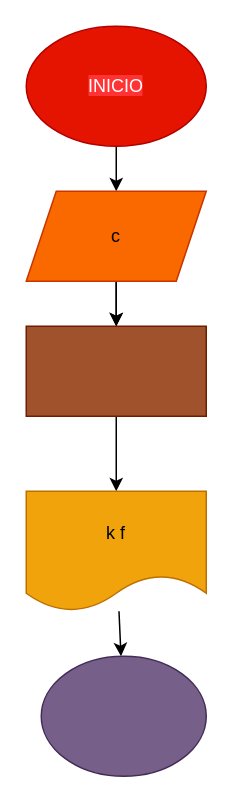
Image size: 233x803. Some labels were removed from this diagram. Each missing label, with the box of its shape:
FIN: (40, 655, 206, 776)
k=c+273.15 f=c+1.8*32: (25, 325, 206, 416)
